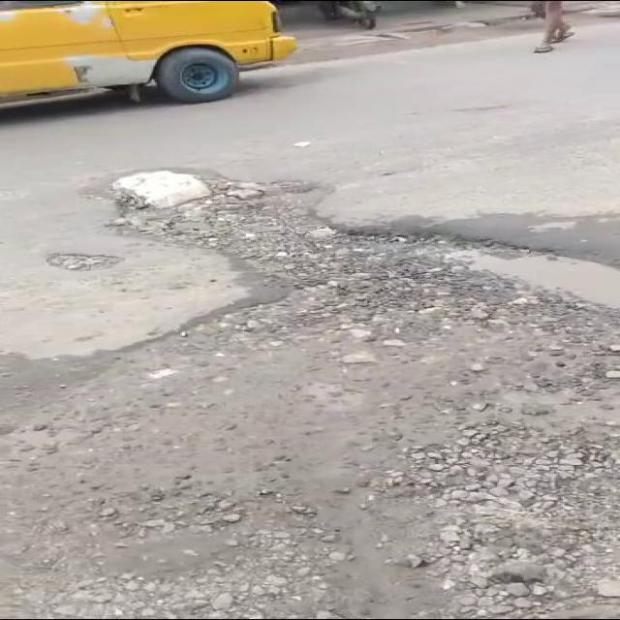lubang: (0, 164, 619, 614), (46, 252, 120, 270)
